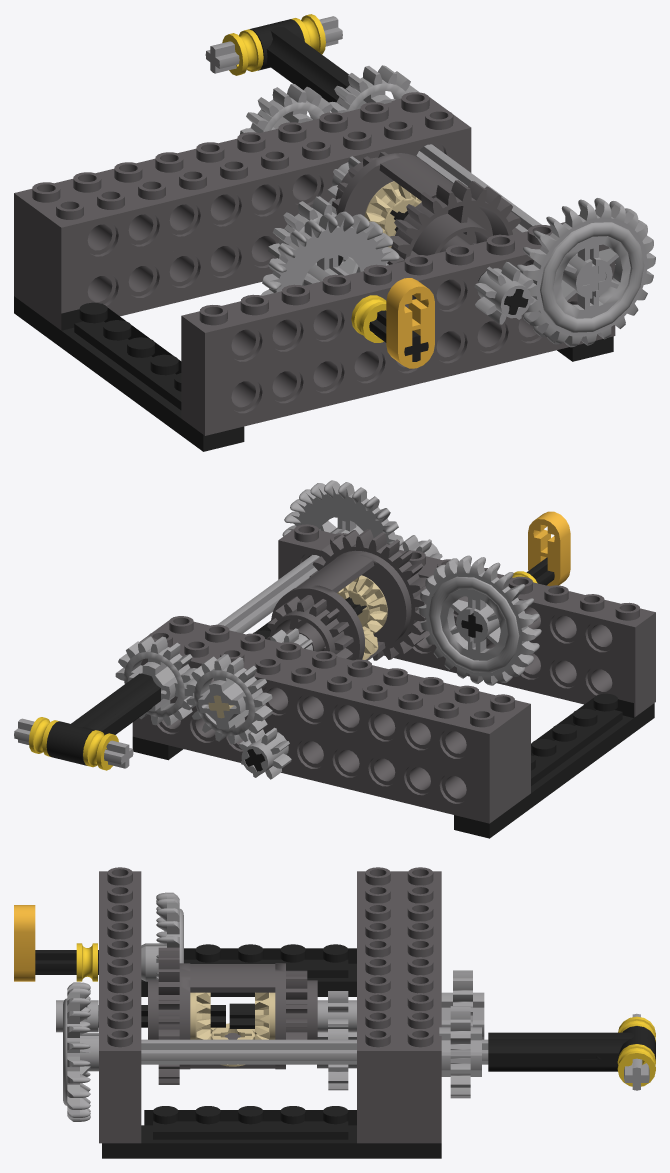
3 renders of one model, top to bottom at view 1: azimuth 30°, elevation 25°; view 2: azimuth 150°, elevation 25°; view 3: azimuth 270°, elevation 25°, orthographic. The views are drawn at different scales.
Visible parts, largest first — view 1: 00023_2730.dat, 00012_2730.dat, 00011_2730.dat, 00021_3650c.dat, 00022_2730.dat, 00002_2730.dat, 00013_6573.dat, 00046_3650c.dat, 00044_41677.dat, 00015_3710.dat, 00026_94925.dat, 00024_94925.dat (+18 smaller); view 2: 00002_2730.dat, 00001_2730.dat, 00013_6573.dat, 00046_3650c.dat, 00012_2730.dat, 00023_2730.dat, 00011_2730.dat, 00026_94925.dat, 00021_3650c.dat, 00024_94925.dat, 00044_41677.dat, 00005_32013.dat (+16 smaller); view 3: 00013_6573.dat, 00012_2730.dat, 00023_2730.dat, 00002_2730.dat, 00028_23948.dat, 00016_3710.dat, 00021_3650c.dat, 00003_59443.dat, 00009_3710.dat, 00035_box5.dat, 00024_94925.dat, 00005_32013.dat (+26 smaller).
Boxes of the visible parts, x1,y1,x2,y2 form: 00023_2730.dat: (37,109,471,278); 00012_2730.dat: (181,215,615,384); 00011_2730.dat: (181,293,615,435); 00021_3650c.dat: (516,198,655,347); 00022_2730.dat: (37,224,286,330); 00002_2730.dat: (14,92,447,261); 00013_6573.dat: (332,152,521,264); 00046_3650c.dat: (261,211,399,295); 00044_41677.dat: (386,278,434,368); 00015_3710.dat: (108,356,244,451); 00026_94925.dat: (240,84,332,134); 00024_94925.dat: (329,65,418,113); 00002_2730.dat: (139,631,510,778); 00001_2730.dat: (132,701,510,823); 00013_6573.dat: (267,529,427,660); 00046_3650c.dat: (418,555,541,685); 00012_2730.dat: (278,524,655,671); 00023_2730.dat: (153,616,530,763); 00011_2730.dat: (384,631,655,716); 00026_94925.dat: (186,654,272,744); 00021_3650c.dat: (282,480,403,545); 00024_94925.dat: (115,636,196,725); 00044_41677.dat: (528,511,570,586); 00005_32013.dat: (46,703,119,765); 00013_6573.dat: (148,947,317,1084); 00012_2730.dat: (99,867,141,1096); 00023_2730.dat: (357,867,399,1096); 00002_2730.dat: (399,867,441,1096); 00028_23948.dat: (141,1039,488,1064); 00016_3710.dat: (102,1122,271,1158); 00021_3650c.dat: (63,982,98,1121); 00003_59443.dat: (488,1032,573,1071); 00009_3710.dat: (272,1123,441,1158); 00035_box5.dat: (153,1121,348,1139); 00024_94925.dat: (439,1006,481,1098); 00005_32013.dat: (573,1026,655,1071).
Size of what is drawn, in the model's own units: 0.0852 by 0.0316 by 0.1209.
